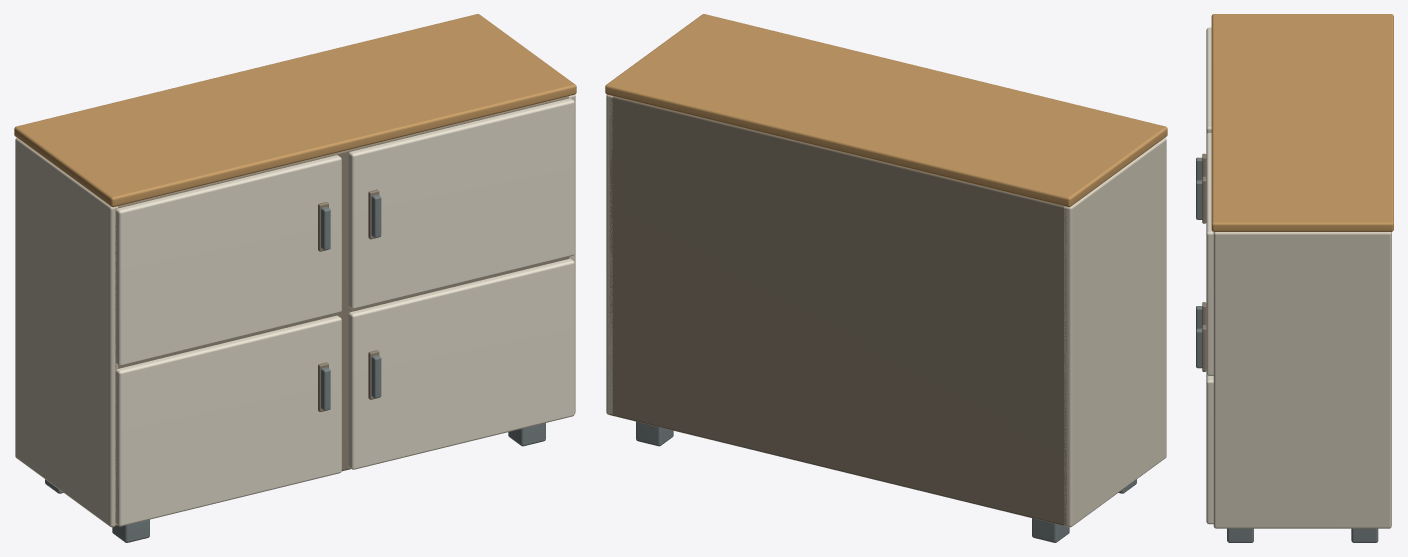
Rendered from prop_storage_cabinet.glb.
3 renders of one model, left to right at view 1: azimuth 30°, elevation 25°; view 2: azimuth 150°, elevation 25°; view 3: azimuth 270°, elevation 25°, orthographic. The views are drawn at different scales.
Parts seen in each view (by area): view 1: prop_storage_cabinet_door, prop_storage_cabinet_wood, prop_storage_cabinet_body, prop_storage_cabinet_shadow, prop_storage_cabinet_metal; view 2: prop_storage_cabinet_shadow, prop_storage_cabinet_wood, prop_storage_cabinet_body, prop_storage_cabinet_metal; view 3: prop_storage_cabinet_body, prop_storage_cabinet_wood, prop_storage_cabinet_door, prop_storage_cabinet_metal, prop_storage_cabinet_shadow.
Part boxes in pixels (x1,y1,x2,y2): prop_storage_cabinet_door: [115, 98, 574, 526]; prop_storage_cabinet_wood: [14, 14, 576, 207]; prop_storage_cabinet_body: [15, 94, 575, 527]; prop_storage_cabinet_shadow: [115, 96, 569, 526]; prop_storage_cabinet_metal: [45, 194, 545, 542]; prop_storage_cabinet_shadow: [609, 96, 1066, 526]; prop_storage_cabinet_wood: [605, 14, 1167, 207]; prop_storage_cabinet_body: [606, 94, 1166, 527]; prop_storage_cabinet_metal: [636, 421, 1136, 542]; prop_storage_cabinet_body: [1213, 232, 1391, 528]; prop_storage_cabinet_wood: [1211, 14, 1393, 231]; prop_storage_cabinet_door: [1206, 27, 1213, 524]; prop_storage_cabinet_metal: [1196, 157, 1378, 542]; prop_storage_cabinet_shadow: [1202, 153, 1213, 371].
Size of the model in its own units: 1.2 by 0.88 by 0.4775.
